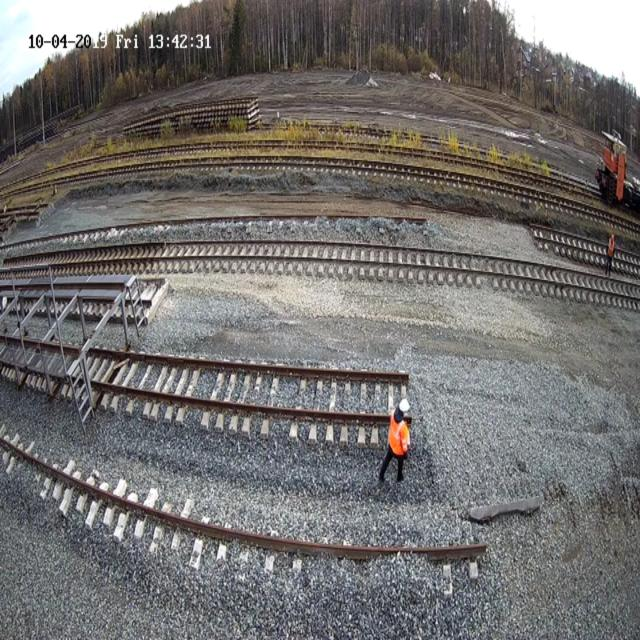Helmet: (399, 398, 409, 412)
Person: (378, 398, 410, 483), (605, 234, 615, 276)
